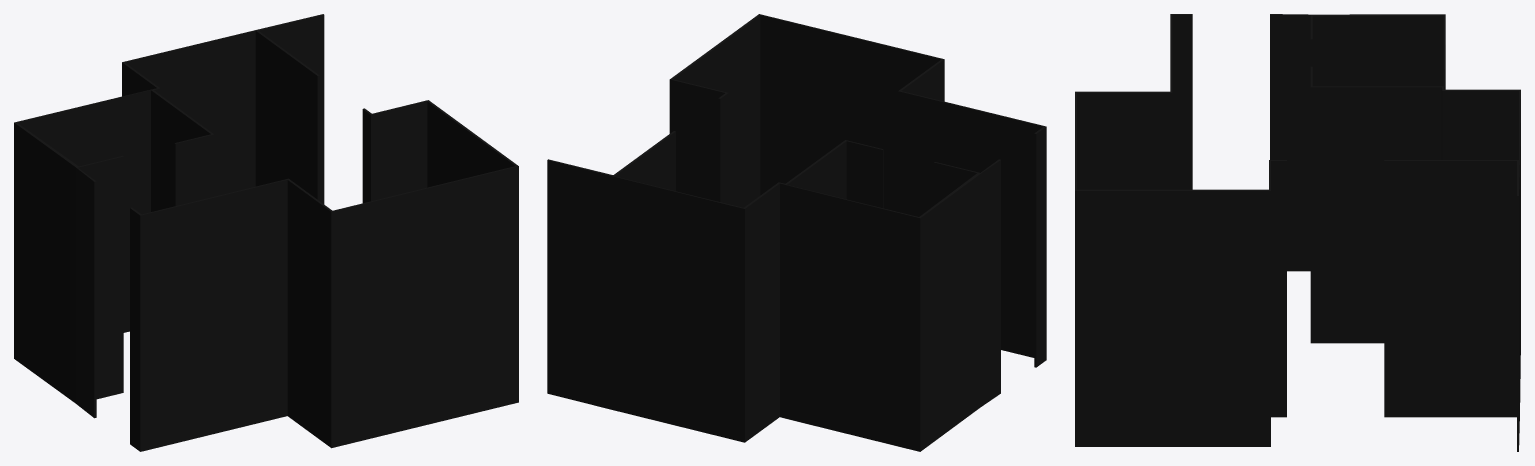
File: ColliderImport.fbx
3 renders of one model, left to right at view 1: azimuth 30°, elevation 25°; view 2: azimuth 150°, elevation 25°; view 3: azimuth 270°, elevation 25°, orthographic. The views are drawn at different scales.
Visible parts, largest first — view 1: WallColliderMap; view 2: WallColliderMap; view 3: WallColliderMap.
Part boxes in pixels (x1,y1,x2,y2): WallColliderMap: (14,14,518,451); WallColliderMap: (547,14,1046,451); WallColliderMap: (1075,14,1520,451).
Size of the model in its own units: 1470 by 966 by 1524.
